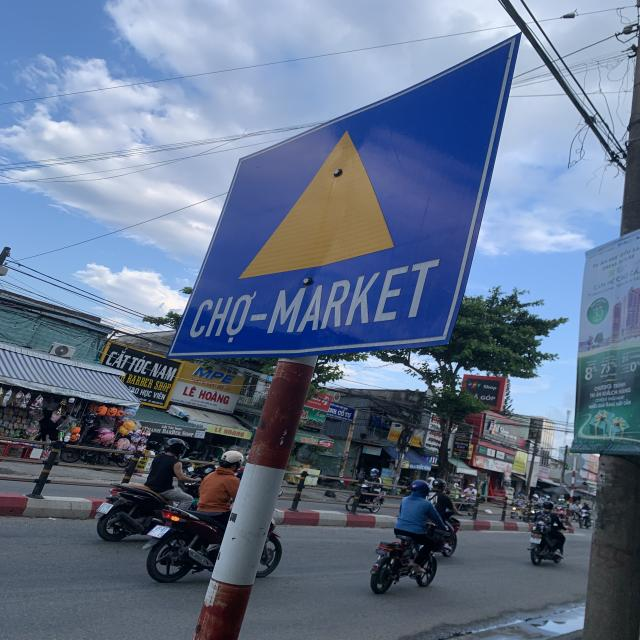Cho_Quay_Xe: (174, 40, 522, 350)
